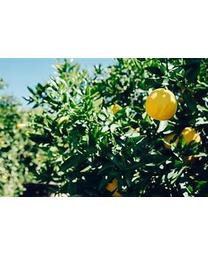lemon: (146, 89, 176, 120)
